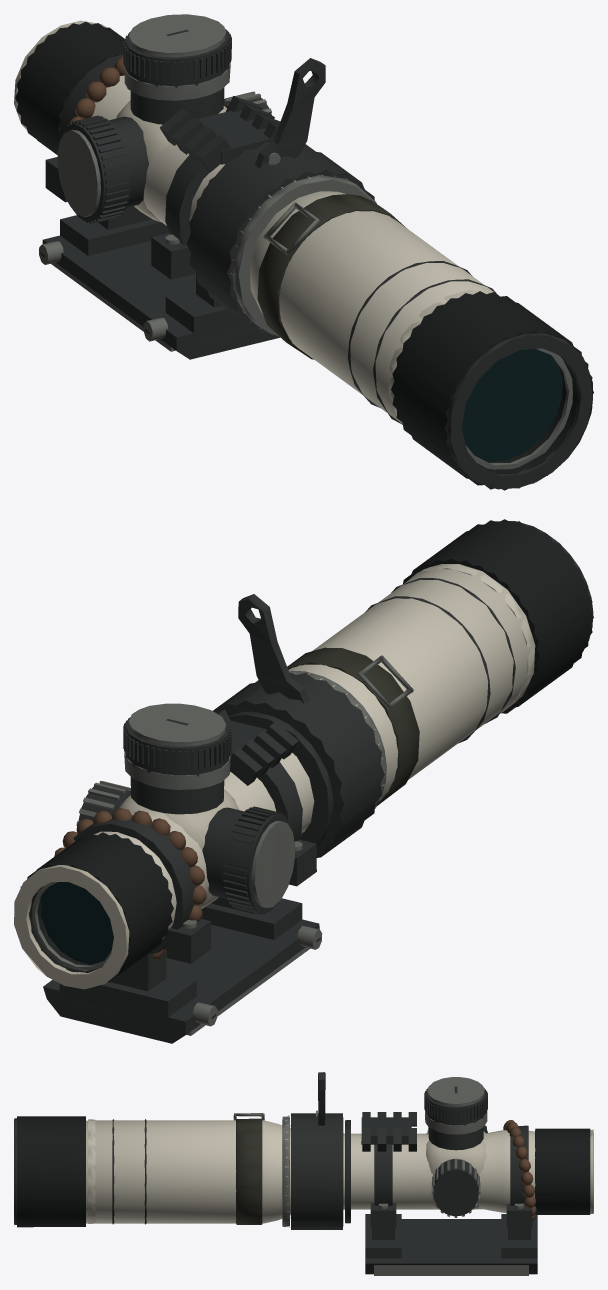
File: card.glb
3 renders of one model, top to bottom at view 1: azimuth 30°, elevation 25°; view 2: azimuth 150°, elevation 25°; view 3: azimuth 270°, elevation 25°, orthographic. The views are drawn at different scales.
Parts seen in each view (by area): view 1: Windage grip tooth.017__asset.001; view 2: Windage grip tooth.017__asset.001; view 3: Windage grip tooth.017__asset.001.
Part boxes in pixels (left/top/right/bottom): Windage grip tooth.017__asset.001: left=14, top=14, right=593, bottom=490; Windage grip tooth.017__asset.001: left=14, top=519, right=593, bottom=1043; Windage grip tooth.017__asset.001: left=14, top=1072, right=593, bottom=1275.
Size of the model in its own units: 0.4645 by 0.7423 by 2.
15 materials, 1 textured.
